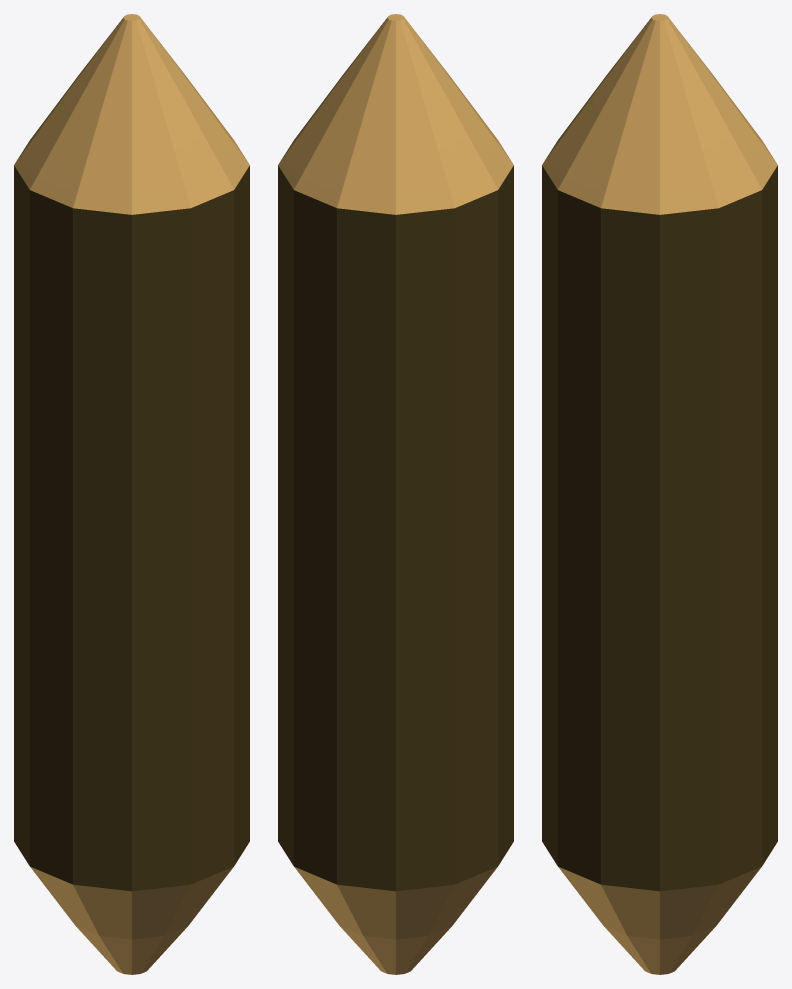
The model's file is WoodWall.fbx.
The picture shows the model from 3 angles, left to right: view 1: azimuth 30°, elevation 25°; view 2: azimuth 150°, elevation 25°; view 3: azimuth 270°, elevation 25°; orthographic projection.
Parts seen in each view (by area): view 1: Wooden Wall.001; view 2: Wooden Wall.001; view 3: Wooden Wall.001.
Boxes of the visible parts, box(x1,y1,x2,y2) form: Wooden Wall.001: box(14, 14, 249, 974); Wooden Wall.001: box(278, 14, 513, 974); Wooden Wall.001: box(542, 14, 777, 974).
Bounding box in the file's own units: 45.43 × 202 × 45.43.
